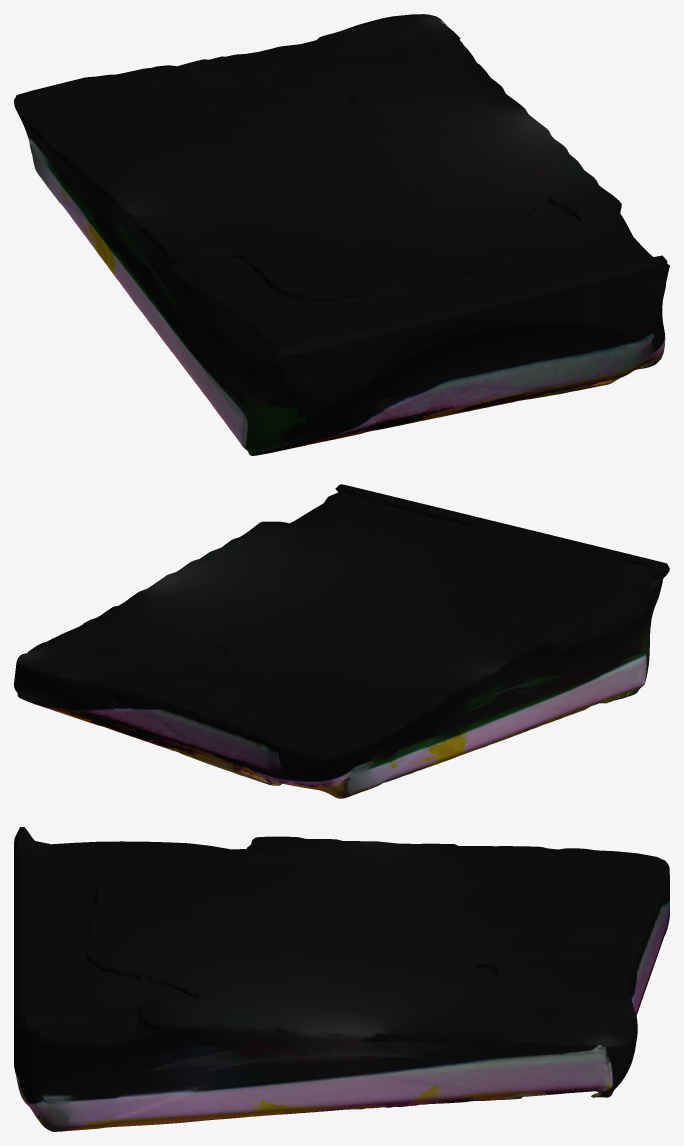
Rendered from calamardo.glb.
3 renders of one model, top to bottom at view 1: azimuth 30°, elevation 25°; view 2: azimuth 150°, elevation 25°; view 3: azimuth 270°, elevation 25°, orthographic. The views are drawn at different scales.
Parts seen in each view (by area): view 1: Node1; view 2: Node1; view 3: Node1.
Part boxes in pixels (x1=…): Node1: x1=14, y1=14, x2=669, y2=455; Node1: x1=14, y1=484, x2=669, y2=798; Node1: x1=14, y1=827, x2=669, y2=1131.
Bounding box in the file's own units: 179 × 49.5 × 219.
1 material, 1 textured.
